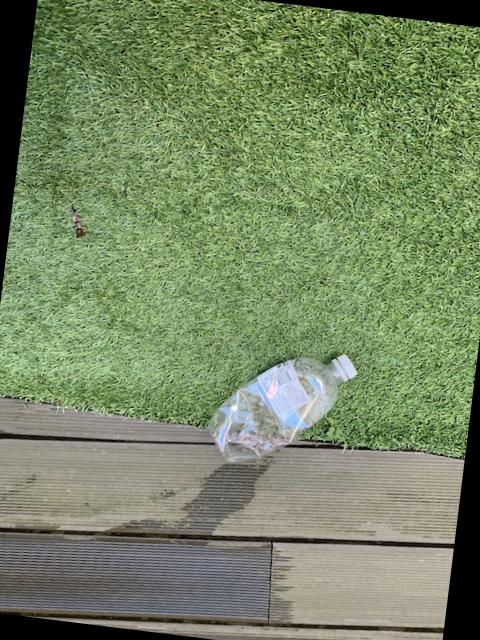plastic: (208, 356, 354, 462)
